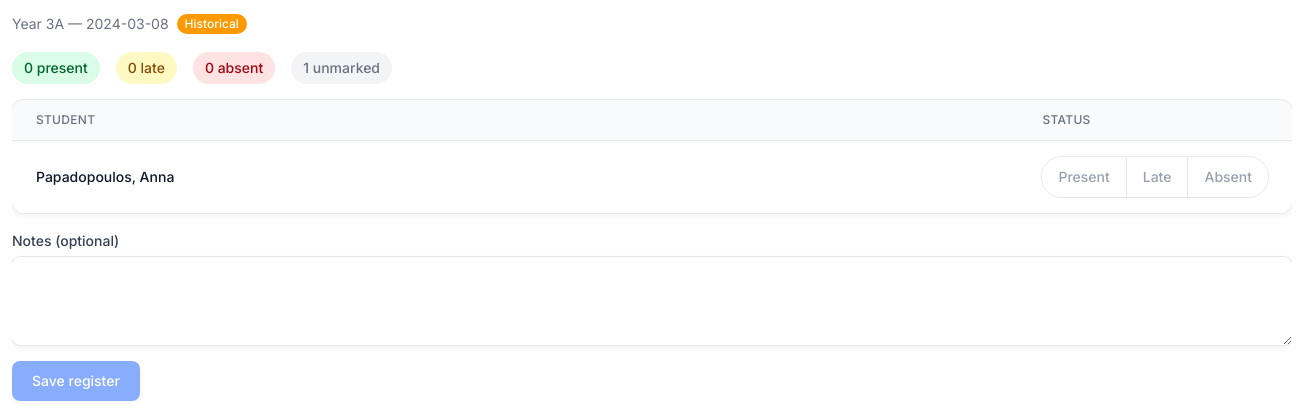
Scenario: AttendanceForm › updates in place from the saved rows: notice, statuses and "Register saved."
Expected: the text "(register already taken)" is not shown
Click the button "Present" at x=1084, y=177, box [1042,157,1126,197]
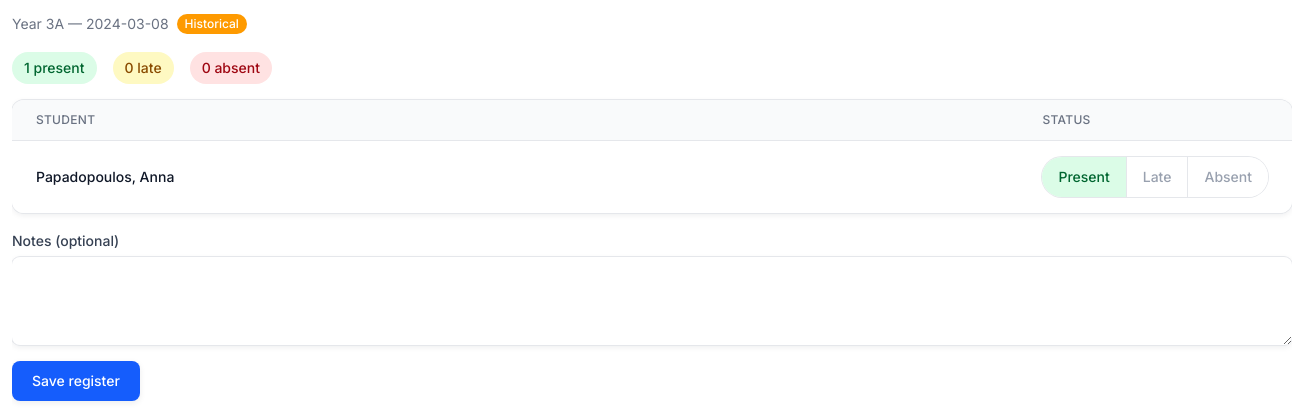
Submit the text "Save register"
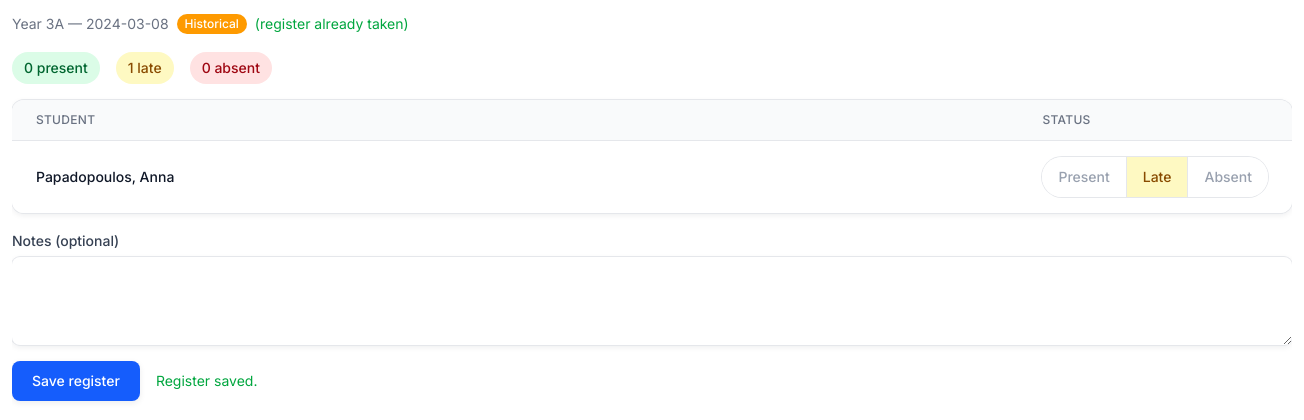
Expected: the text "Register saved." is shown, [156,369,258,393]
Expected: the text "(register already taken)" is shown, [255,12,409,36]
Expected: the text "1 late" is shown, [116,52,174,84]
